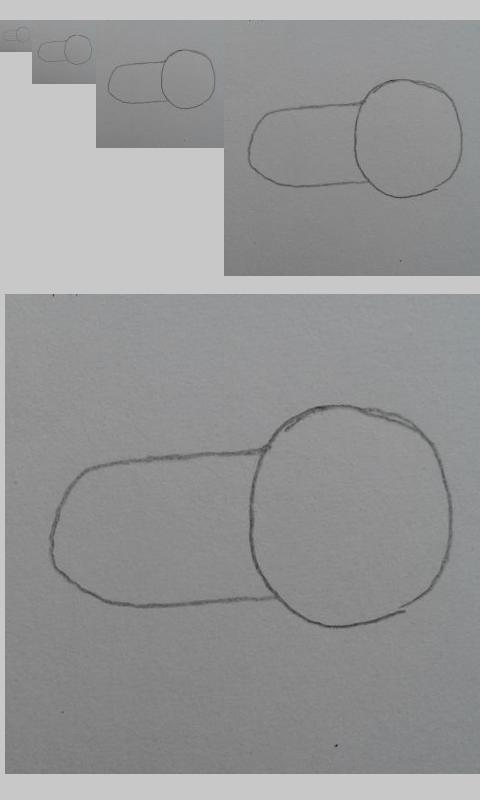switch: (48, 403, 454, 630), (247, 78, 464, 199), (107, 48, 216, 110), (37, 34, 94, 66), (1, 26, 31, 43)
